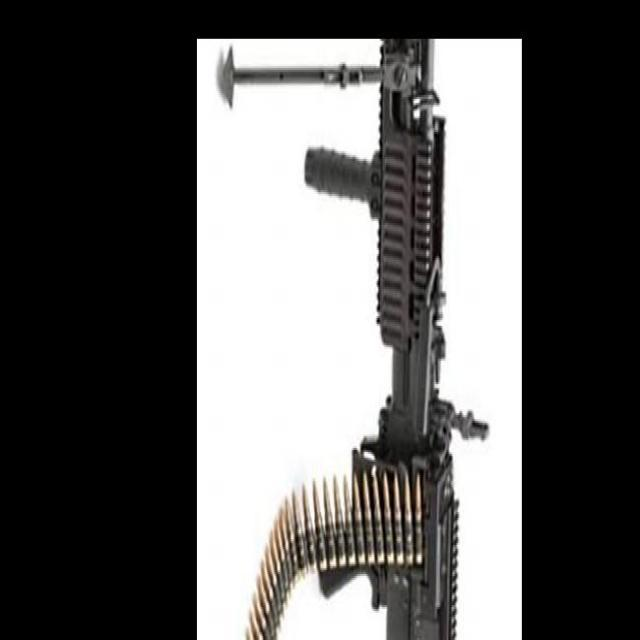weapon: (222, 39, 490, 640)
